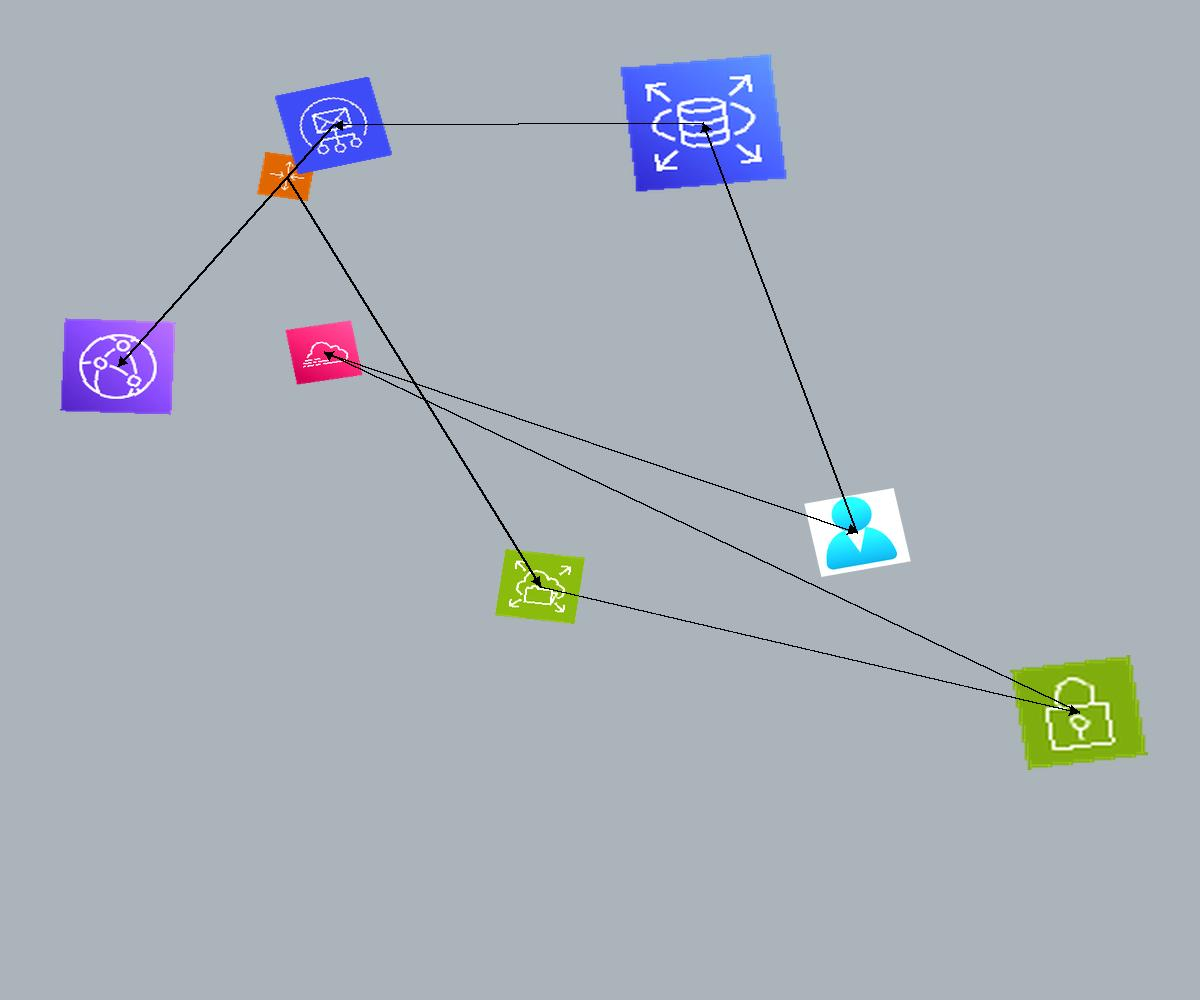AWS-CloudFront: (60, 318, 176, 415)
AWS-CloudTrail: (285, 320, 363, 385)
AWS-EFS: (495, 549, 585, 624)
AWS-Public-subnet: (1010, 655, 1148, 770)
AWS-RDS: (619, 53, 788, 193)
AWS-Scaling-group: (256, 151, 317, 202)
AWS-Simple-Email-Service: (274, 76, 393, 175)
Azure_users: (804, 488, 911, 577)
